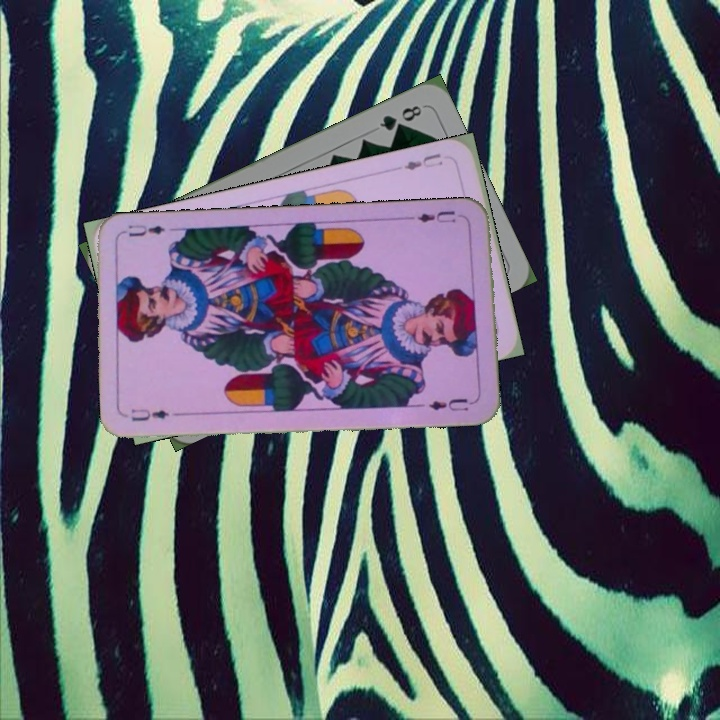EU: (399, 149, 446, 173), (127, 405, 184, 424), (413, 206, 459, 226)
G8: (375, 101, 425, 134)
